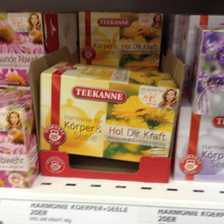tea: (39, 59, 180, 163), (77, 9, 163, 66)
